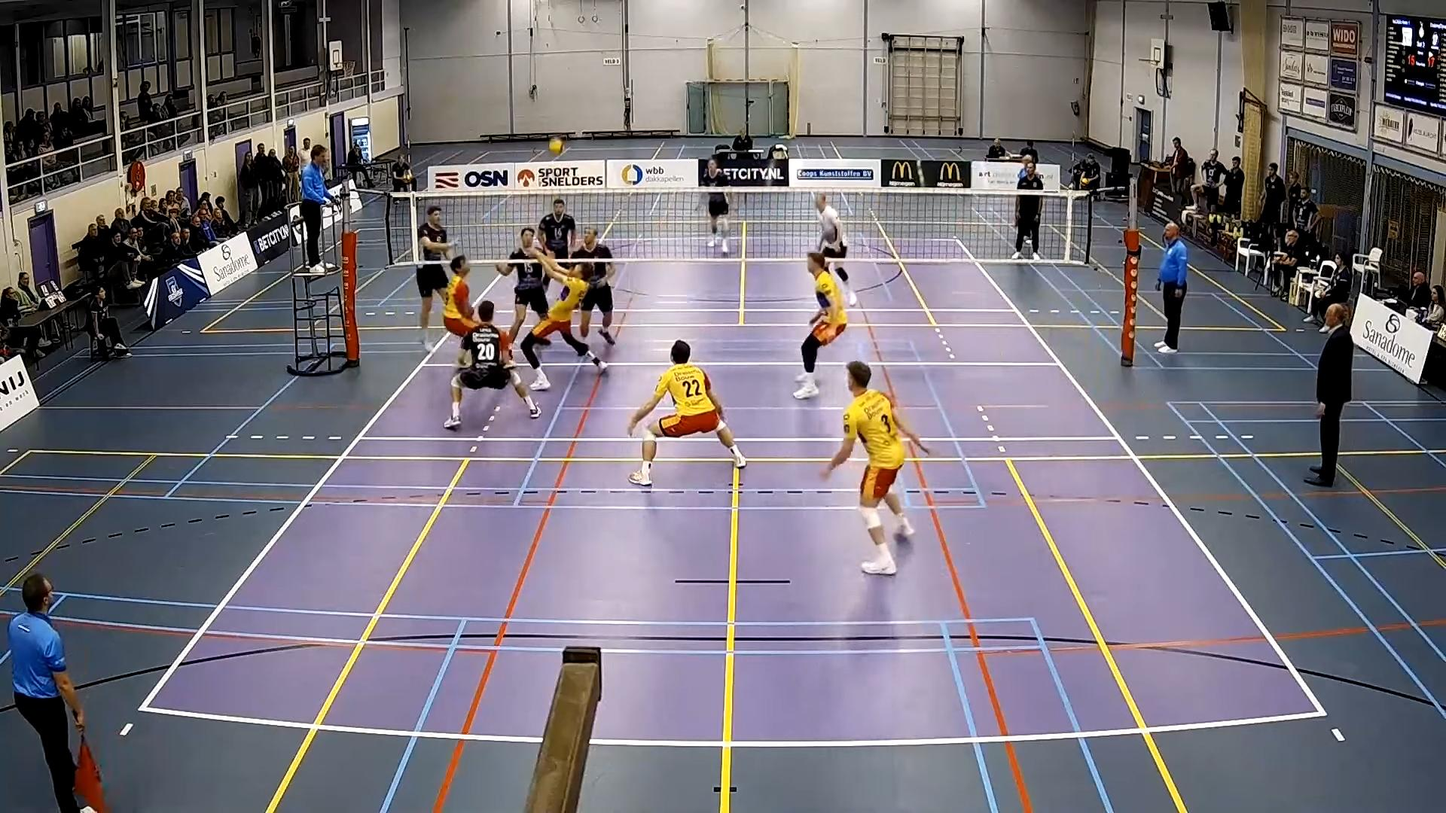Dig: (519, 242, 609, 388)
Player: (823, 361, 929, 574), (628, 340, 746, 486), (444, 300, 541, 429), (793, 253, 847, 399), (496, 227, 548, 341), (572, 227, 615, 344), (416, 206, 451, 349), (700, 159, 730, 254), (443, 255, 477, 336), (538, 199, 576, 258), (815, 194, 847, 260)
ball: (551, 137, 562, 149)
